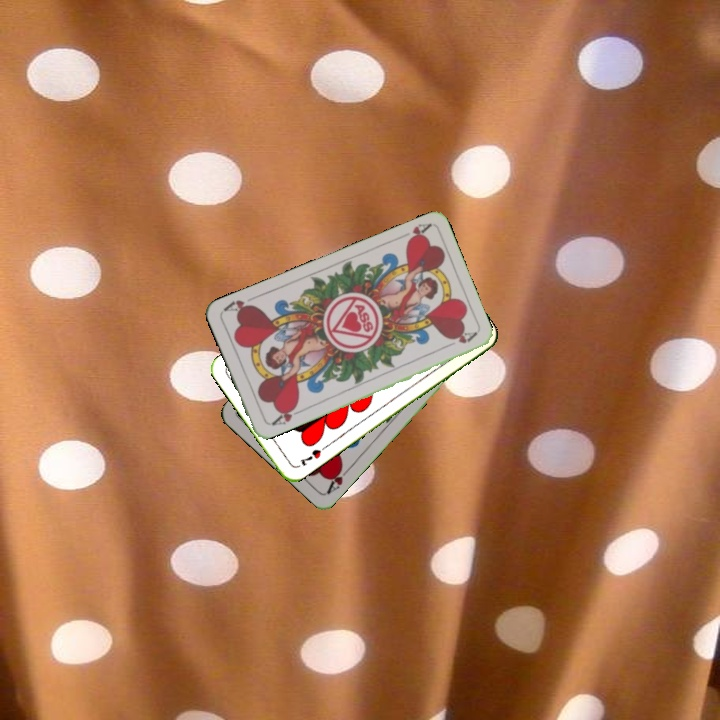H7: (296, 445, 324, 468)
HA: (323, 460, 354, 496), (267, 400, 305, 428), (394, 219, 433, 246)
